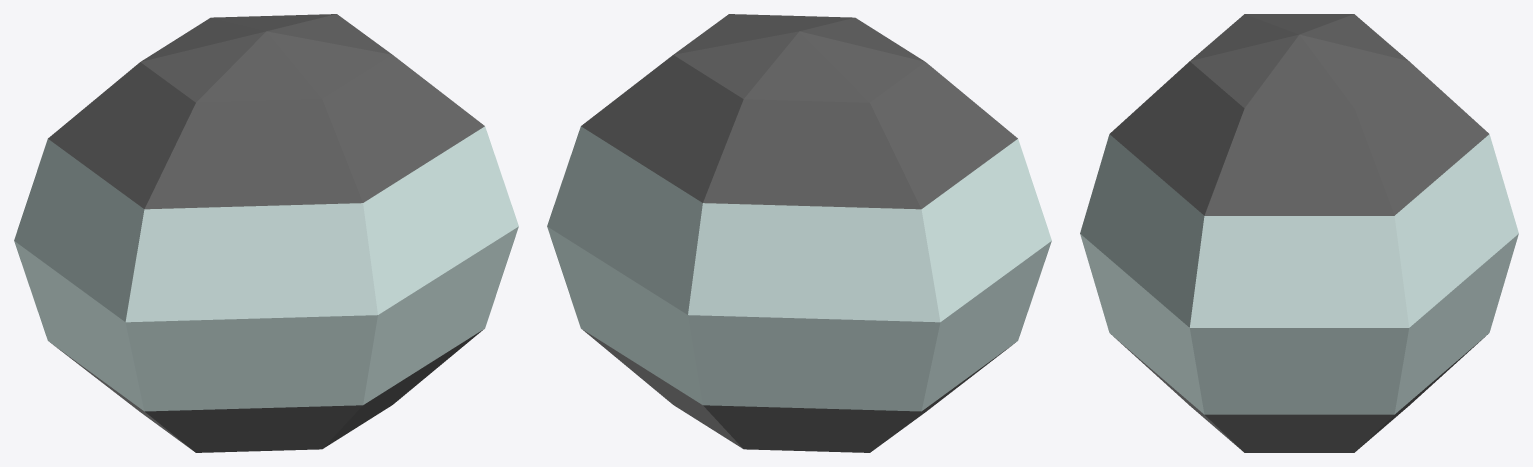
File: model-collectable-resources-low.fbx
The picture shows the model from 3 angles, left to right: view 1: azimuth 30°, elevation 25°; view 2: azimuth 150°, elevation 25°; view 3: azimuth 270°, elevation 25°; orthographic projection.
Visible parts, largest first — view 1: mesh; view 2: mesh; view 3: mesh.
Boxes of the visible parts, x1=… form: mesh: x1=14, y1=14, x2=518, y2=452; mesh: x1=547, y1=14, x2=1051, y2=452; mesh: x1=1080, y1=14, x2=1518, y2=452.
Size of the model in its own units: 0.3053 by 0.2999 by 0.2999.
